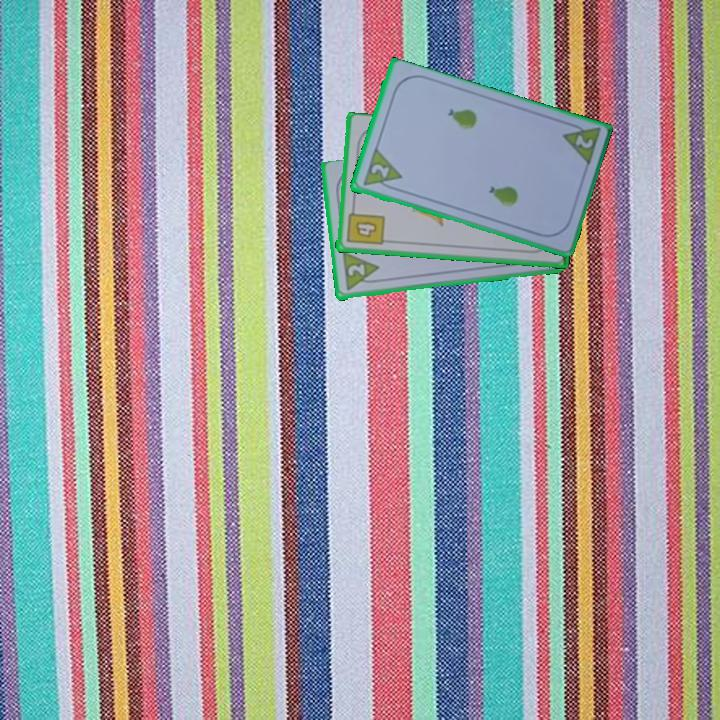2p: (359, 146, 404, 194), (571, 131, 596, 152), (344, 261, 367, 279)
4b: (343, 203, 386, 248)
